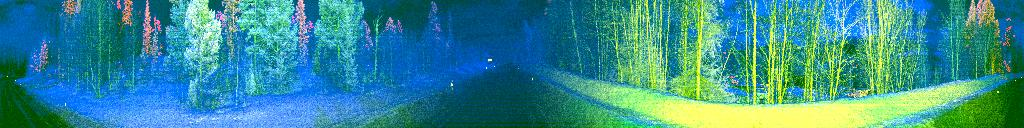pole: (450, 78, 455, 96)
